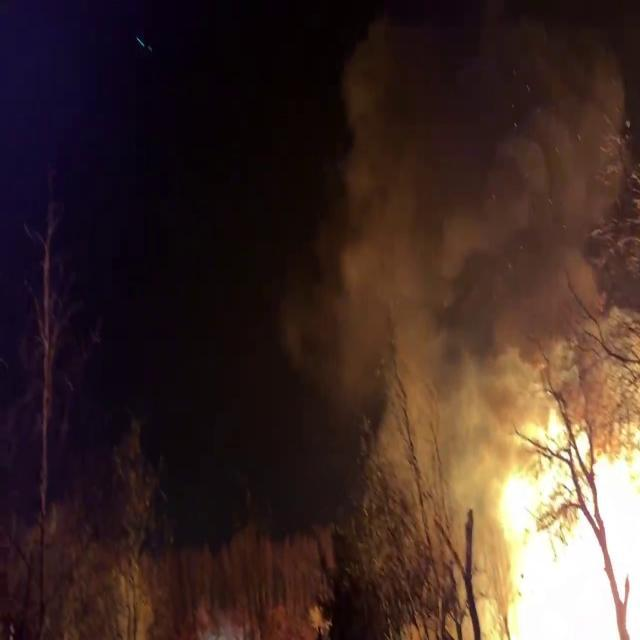Fire: (463, 386, 640, 636)
Smoke: (287, 2, 640, 471)
